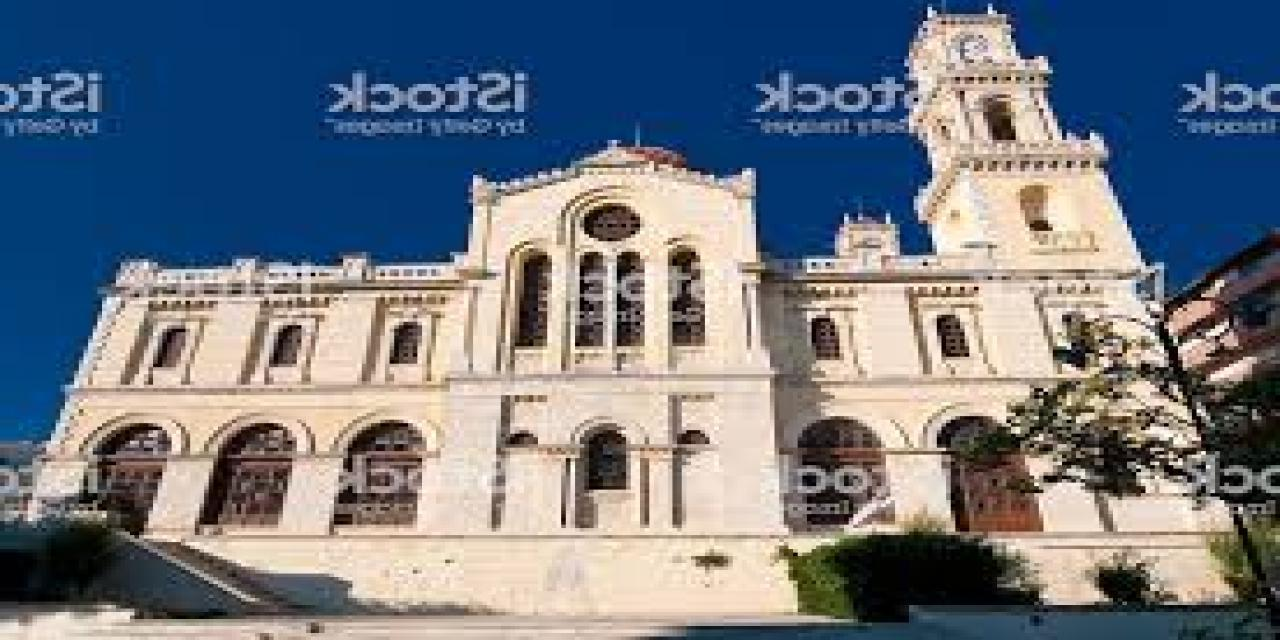Agios Minas: (31, 3, 1260, 599)
